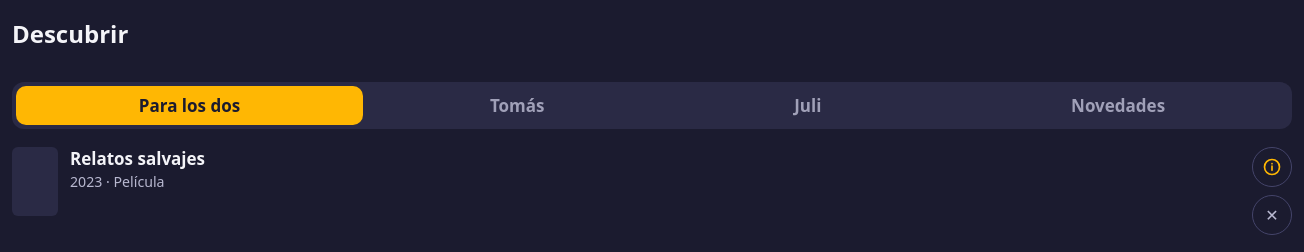
Test: shows Para los dos first, then each member by name and Novedades
The image size is (1304, 252).
Expected: the heading "Descubrir" is shown, [12,17,128,50]
Expected: the text "Relatos salvajes" is shown, [70,147,205,170]
Click the button "Juli" at (808, 105), box [671,86,944,125]
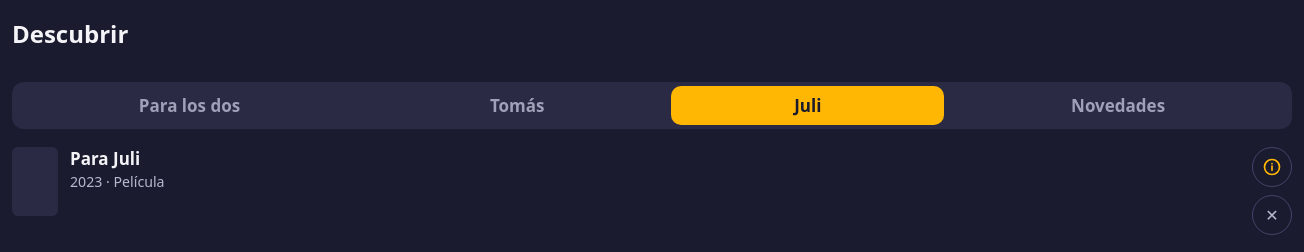
Expected: the text "Para Juli" is shown, [70,147,140,170]
Expected: the button "Relatos salvajes" is gone
